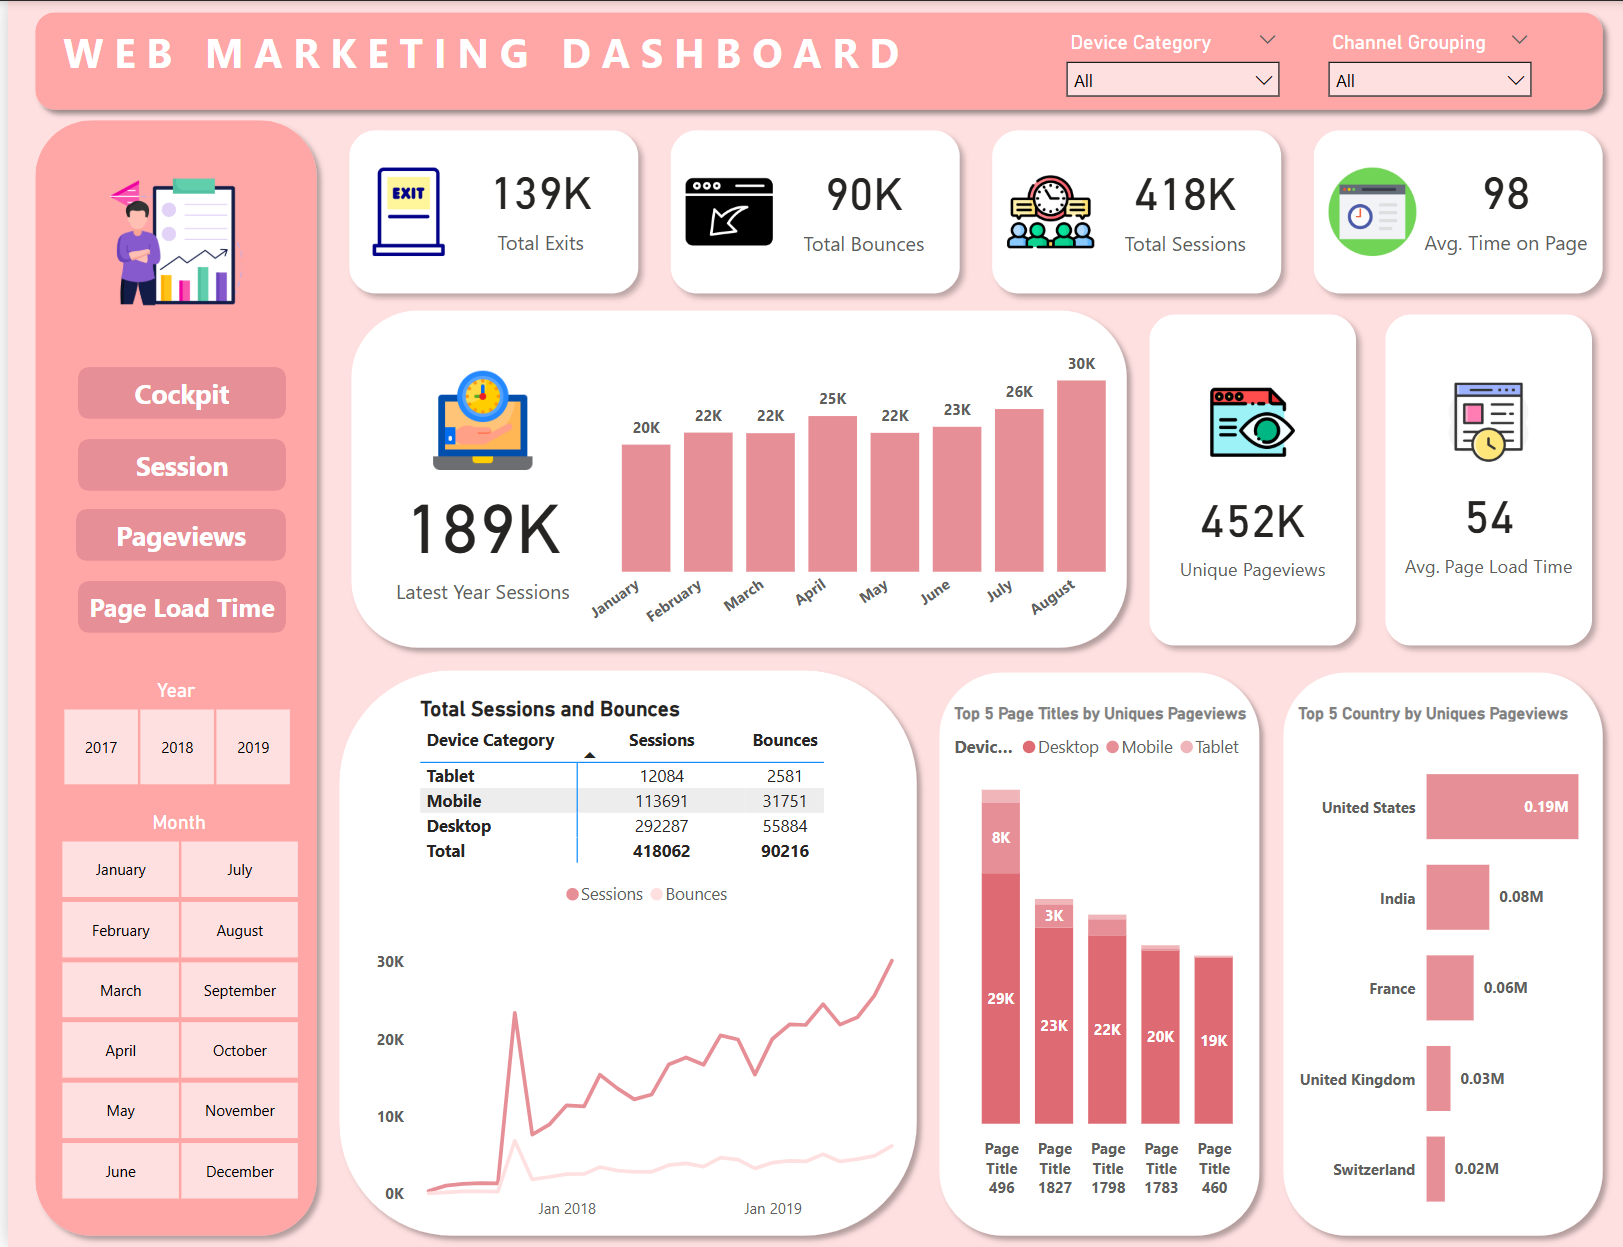

Layout of this report page (visuals, bound fields, positions):
{"tool":"powerbi","page":{"name":"Page 1","canvas":[1300,1000],"ordinal":0},"visuals":[{"type":"shape","box":[738.4,529.7,275,470.3],"z":0},{"type":"shape","box":[256.8,528.1,481.5,471.9],"z":1000},{"type":"shape","box":[12.8,0,1276.1,96.3],"z":2000},{"type":"textbox","box":[30.5,14.4,1202.2,65.8],"z":3000},{"type":"shape","box":[12.8,86.7,244,913.3],"z":4000},{"type":"cardVisual","fields":{"Data":["Sum(Web Marketing_Migrated Data.Exits)","Sum(Web Marketing_Migrated Data.Bounces)","Sum(Web Marketing_Migrated Data.Sessions)","Avg(Web Marketing_Migrated Data.Time on Page)"]},"box":[256.8,86.7,1040.1,165.3],"z":5000},{"type":"actionButton","box":[56.2,293.7,166.9,41.7],"z":5000,"group":"g1"},{"type":"cardVisual","fields":{"Data":["Sum(Web Marketing_Migrated Data.Pageviews)"]},"box":[898.9,234.3,200.6,300.2],"z":6000},{"type":"actionButton","box":[56.2,350.9,166.9,41.7],"z":6000,"group":"g1"},{"type":"shape","box":[266.5,239.2,640.4,288.9],"z":7000},{"type":"actionButton","box":[54.6,408.2,168.5,41.7],"z":7000,"group":"g1"},{"type":"cardVisual","fields":{"Data":["Avg(Web Marketing_Migrated Data.Page Load Time)"]},"box":[1088.3,234.3,200.6,300.2],"z":8000},{"type":"actionButton","box":[56.2,465.4,166.9,41.7],"z":8000,"group":"g1"},{"type":"clusteredColumnChart","fields":{"Category":["Web Marketing_Migrated Data.Date.Variation.Date Hierarchy.Month"],"Y":["Sum(Web Marketing_Migrated Data.Sessions)"]},"box":[460.7,266.5,446.2,253.6],"z":9000},{"type":"cardVisual","fields":{"Data":["Sum(Web Marketing_Migrated Data.Sessions)"]},"box":[276.1,245.6,210.3,285.7],"z":10000},{"type":"pivotTable","title":"Total Sessions and Bounces","fields":{"Rows":["Web Marketing_Migrated Data.Device Category"],"Values":["Sum(Web Marketing_Migrated Data.Sessions)","Sum(Web Marketing_Migrated Data.Bounces)"]},"box":[325.8,558.6,380.4,154.1],"z":11000},{"type":"lineChart","title":"Sessions Vs Bounces ","fields":{"Category":["Web Marketing_Migrated Data.Date.Variation.Date Hierarchy.Year","Web Marketing_Migrated Data.Date.Variation.Date Hierarchy.Month"],"Y":["Sum(Web Marketing_Migrated Data.Sessions)","Sum(Web Marketing_Migrated Data.Bounces)"]},"box":[290.5,696.6,447.8,290.5],"z":12000},{"type":"columnChart","title":"Top 5 Page Titles by Uniques Pageviews","fields":{"Category":["Web Marketing_Migrated Data.Page Title"],"Y":["Sum(Web Marketing_Migrated Data.Unique Pageviews)"],"Series":["Web Marketing_Migrated Data.Device Category"]},"box":[754.4,563.4,252,404.5],"z":13000},{"type":"shape","box":[1014.4,529.7,274.5,470.3],"z":14000},{"type":"clusteredBarChart","title":"Top 5 Country by Uniques Pageviews","fields":{"Y":["Sum(Web Marketing_Migrated Data.Unique Pageviews)"],"Category":["Web Marketing_Migrated Data.Country"]},"box":[1030.5,563.4,258.4,436.6],"z":15000},{"type":"slicer","fields":{"Values":["Web Marketing_Migrated Data.Channel Grouping"]},"box":[1049.8,19.3,183,59.4],"z":16000},{"type":"slicer","fields":{"Values":["Web Marketing_Migrated Data.Device Category"]},"box":[839.5,19.3,191,67.4],"z":17000},{"type":"image","box":[70.6,134.8,126.8,117.2],"z":18000},{"type":"group","id":"g1","title":"Group 1","box":[54.6,293.7,168.5,213.5],"z":19000},{"type":"slicer","title":"Month","fields":{"Values":["Web Marketing_Migrated Data.Date.Variation.Date Hierarchy.Month"]},"box":[17.7,650.1,239.2,317.8],"z":20000},{"type":"slicer","title":"Year","fields":{"Values":["Web Marketing_Migrated Data.Date.Variation.Date Hierarchy.Year"]},"box":[19.3,544.1,231.1,91.5],"z":20001}]}

Visuals, with their boxes in screenshot pixels (x1, y1, x2, y2), scaled from the page's 1300x1000 canvas onto the 1623x1247 screenshot:
shape: x1=922 y1=661 x2=1265 y2=1246
shape: x1=321 y1=659 x2=922 y2=1246
shape: x1=16 y1=0 x2=1609 y2=120
textbox: x1=38 y1=18 x2=1539 y2=100
shape: x1=16 y1=108 x2=321 y2=1246
cardVisual - Sum(Web Marketing_Migrated Data.Exits) x Sum(Web Marketing_Migrated Data.Bounces): x1=321 y1=108 x2=1619 y2=314
actionButton: x1=70 y1=366 x2=279 y2=418
cardVisual - Sum(Web Marketing_Migrated Data.Pageviews): x1=1122 y1=292 x2=1373 y2=667
actionButton: x1=70 y1=438 x2=279 y2=490
shape: x1=333 y1=298 x2=1132 y2=659
actionButton: x1=68 y1=509 x2=279 y2=561
cardVisual - Avg(Web Marketing_Migrated Data.Page Load Time): x1=1359 y1=292 x2=1609 y2=667
actionButton: x1=70 y1=580 x2=279 y2=632
clusteredColumnChart - Web Marketing_Migrated Data.Date.Variation.Date Hierarchy.Month x Sum(Web Marketing_Migrated Data.Sessions): x1=575 y1=332 x2=1132 y2=649
cardVisual - Sum(Web Marketing_Migrated Data.Sessions): x1=345 y1=306 x2=607 y2=663
"Total Sessions and Bounces" pivotTable: x1=407 y1=697 x2=882 y2=889
"Sessions Vs Bounces " lineChart: x1=363 y1=869 x2=922 y2=1231
"Top 5 Page Titles by Uniques Pageviews" columnChart: x1=942 y1=703 x2=1256 y2=1207
shape: x1=1266 y1=661 x2=1609 y2=1246
"Top 5 Country by Uniques Pageviews" clusteredBarChart: x1=1287 y1=703 x2=1609 y2=1246
slicer - Web Marketing_Migrated Data.Channel Grouping: x1=1311 y1=24 x2=1539 y2=98
slicer - Web Marketing_Migrated Data.Device Category: x1=1048 y1=24 x2=1287 y2=108
image: x1=88 y1=168 x2=246 y2=314
"Group 1" group: x1=68 y1=366 x2=279 y2=632
"Month" slicer: x1=22 y1=811 x2=321 y2=1207
"Year" slicer: x1=24 y1=678 x2=313 y2=793
